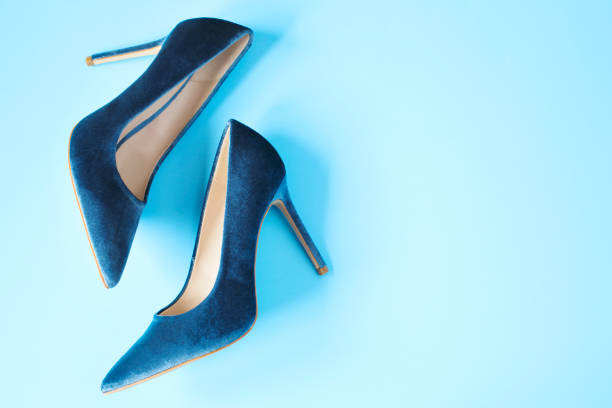Footwear: (99, 118, 330, 397), (60, 10, 258, 290)
